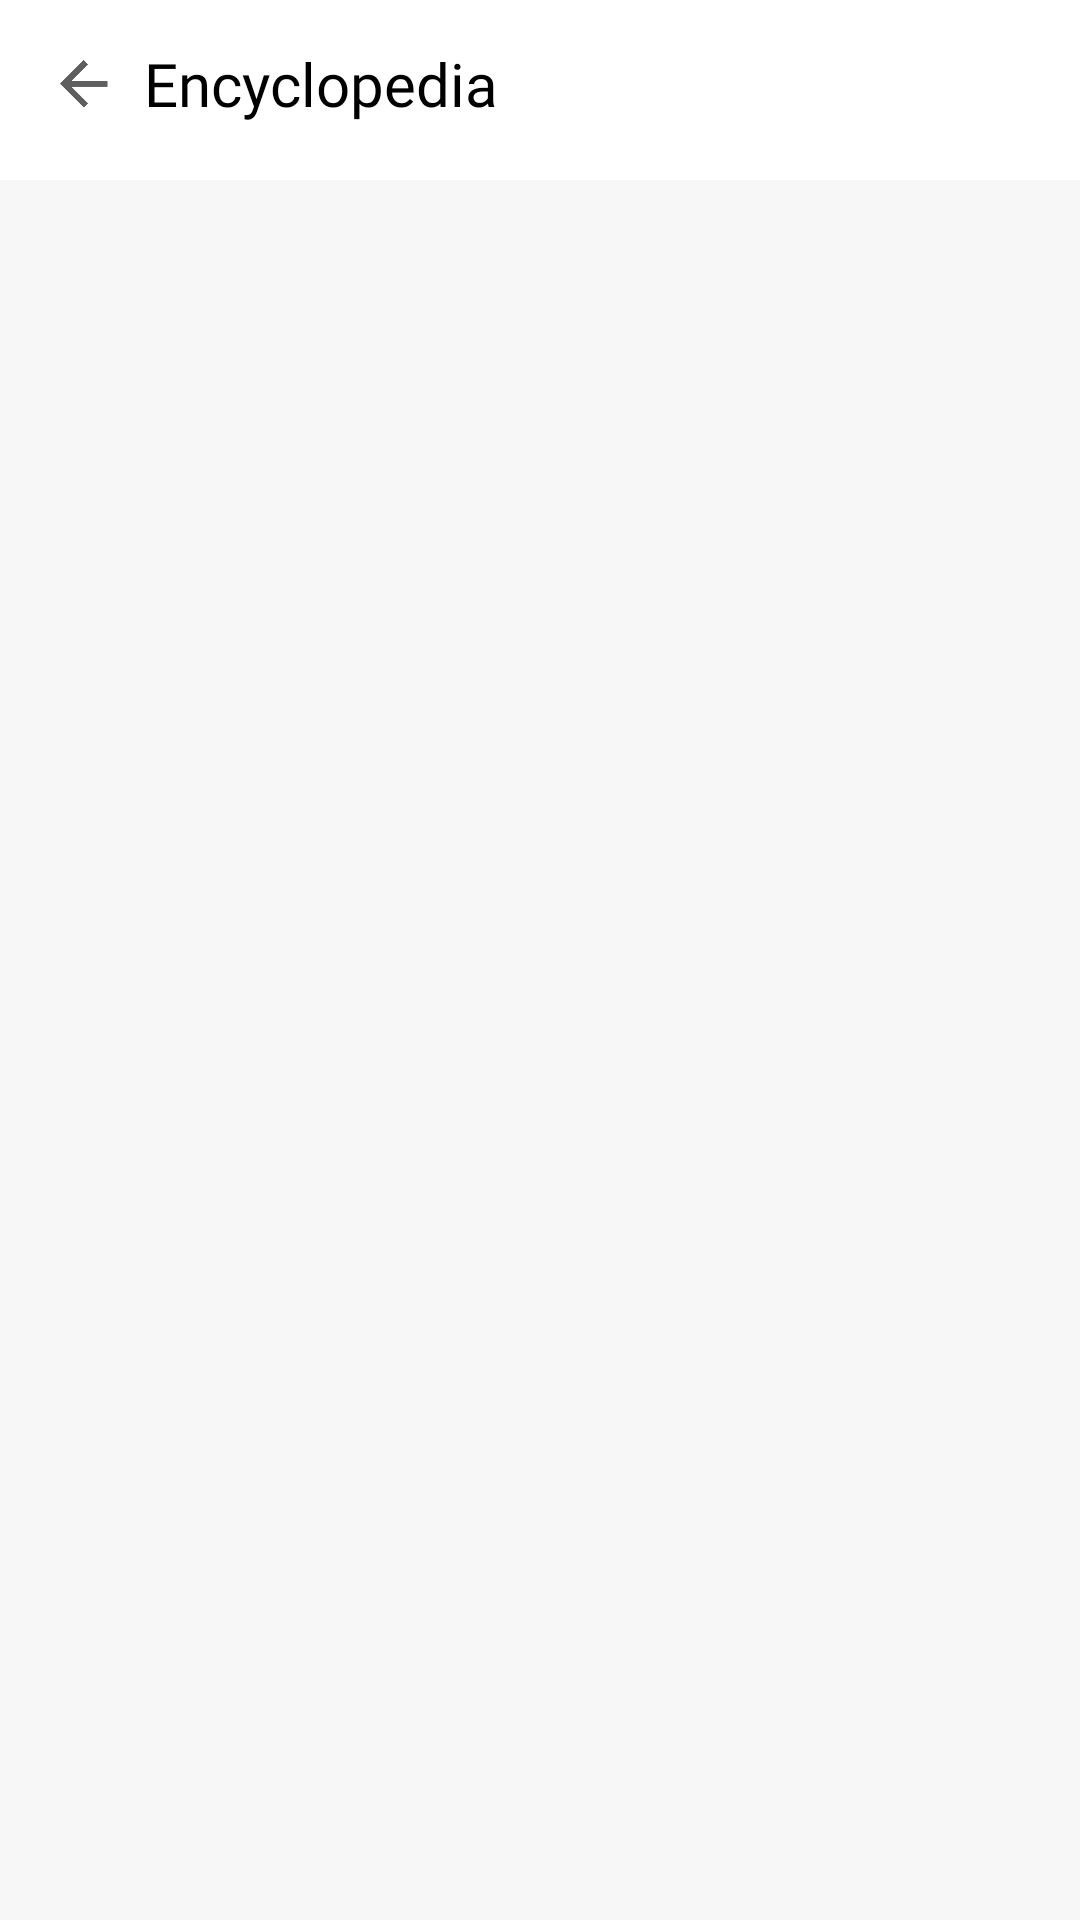

Where icons sit on this 1080*1920 app screen, as (x1, y1, x2, y2):
back: (60, 60, 108, 107)
